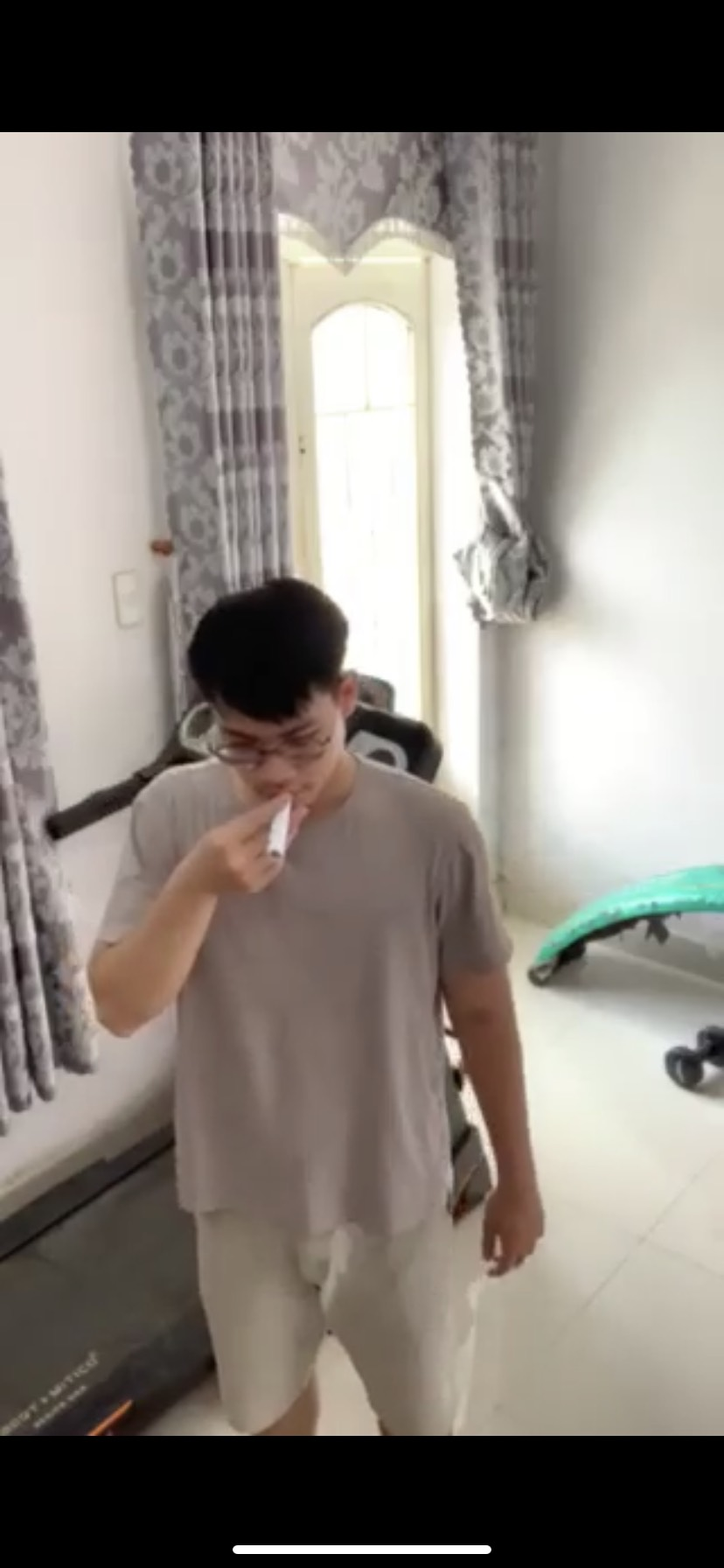cigarette: (264, 795, 303, 864)
person: (85, 555, 563, 1429)
